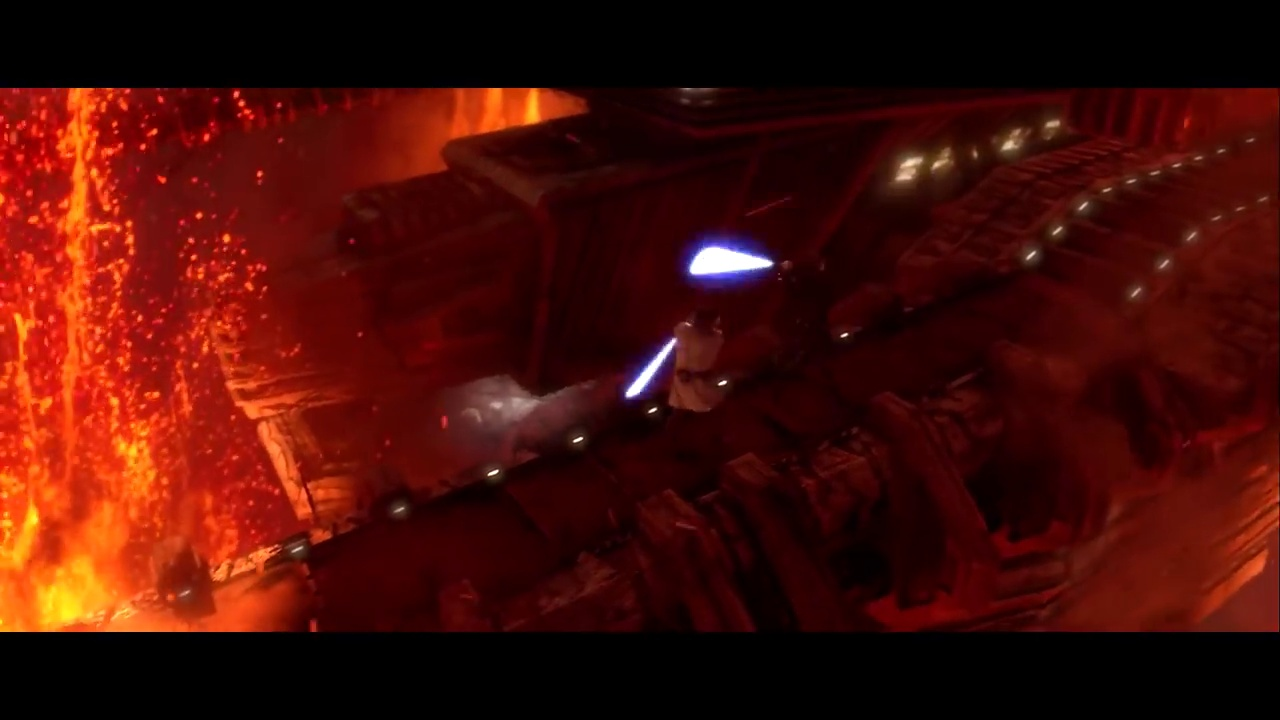lightsaber: (621, 304, 695, 404), (668, 244, 791, 286)
